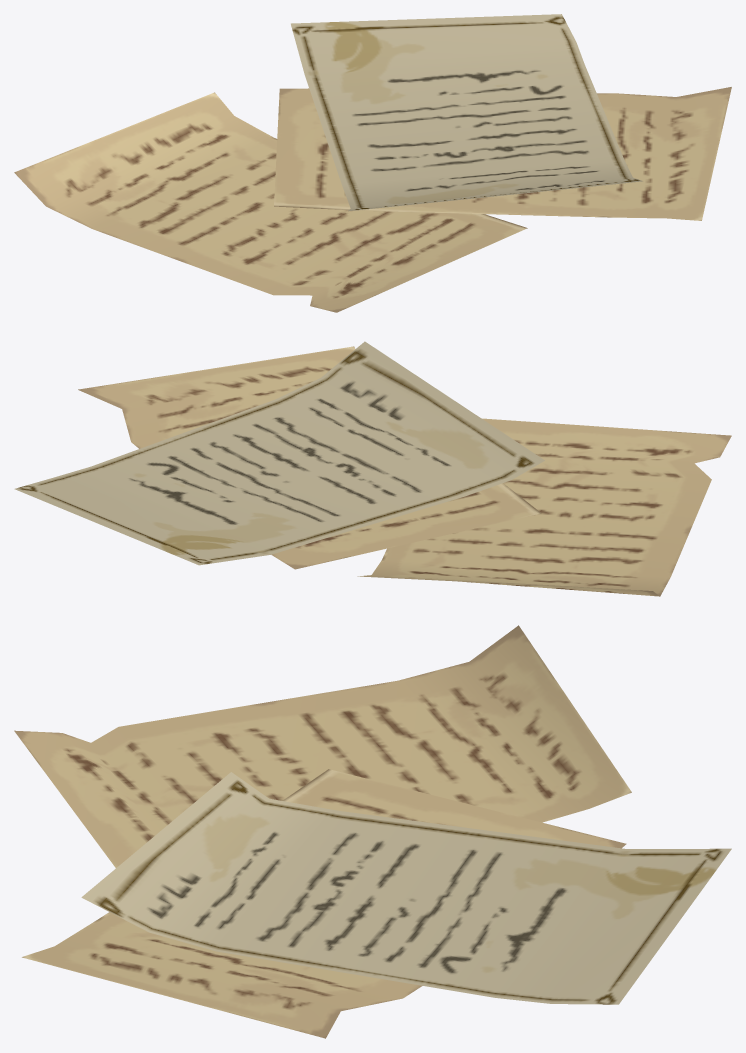
The model's file is SM_PROP_paper_battle_02.fbx.
3 renders of one model, top to bottom at view 1: azimuth 30°, elevation 25°; view 2: azimuth 150°, elevation 25°; view 3: azimuth 270°, elevation 25°, orthographic. The views are drawn at different scales.
Visible parts, largest first — view 1: SM_PROP_paper_battle_02; view 2: SM_PROP_paper_battle_02; view 3: SM_PROP_paper_battle_02.
Boxes of the visible parts, x1,y1,x2,y2 form: SM_PROP_paper_battle_02: [14, 14, 731, 312]; SM_PROP_paper_battle_02: [14, 341, 731, 596]; SM_PROP_paper_battle_02: [14, 625, 731, 1038].
Size of the model in its own units: 79.44 by 4.56 by 61.06.
